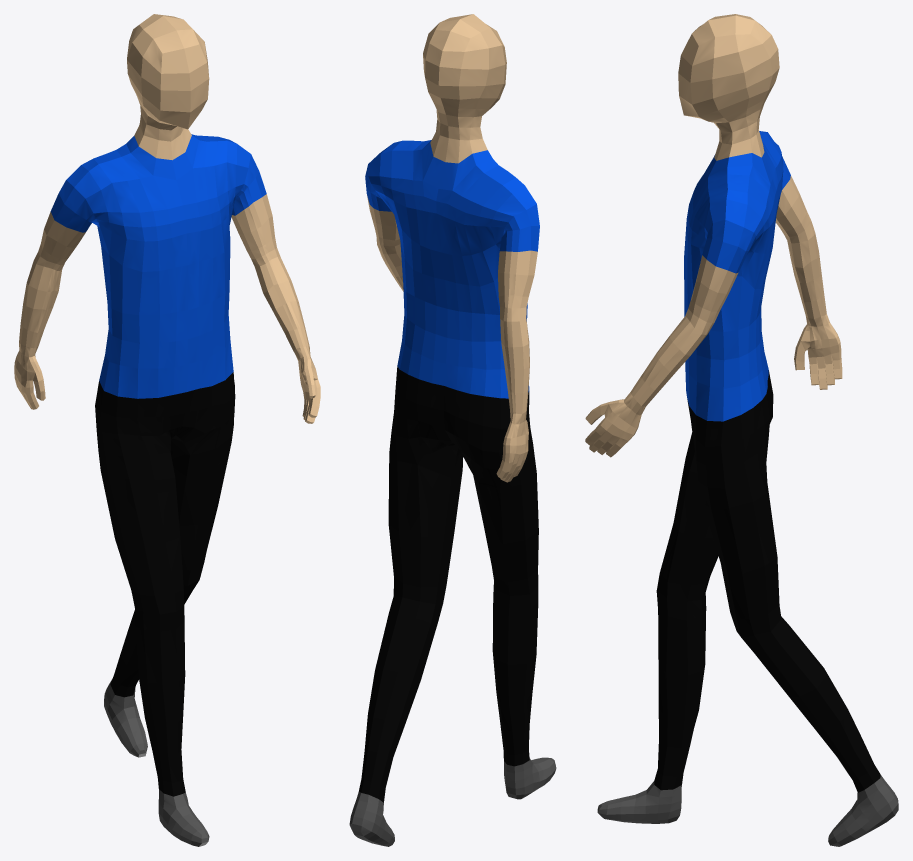
The model's file is Man_1.glb.
3 views of the same model, side by side, from view 1: azimuth 30°, elevation 25°; view 2: azimuth 150°, elevation 25°; view 3: azimuth 270°, elevation 25° (orthographic). The views are drawn at different scales.
Visible parts, largest first — view 1: Man; view 2: Man; view 3: Man.
Boxes of the visible parts, <box> form: Man: <box>14,14,320,846</box>; Man: <box>349,14,556,846</box>; Man: <box>585,14,898,846</box>.
Size of the model in its own units: 2.8 by 10.22 by 3.55.
